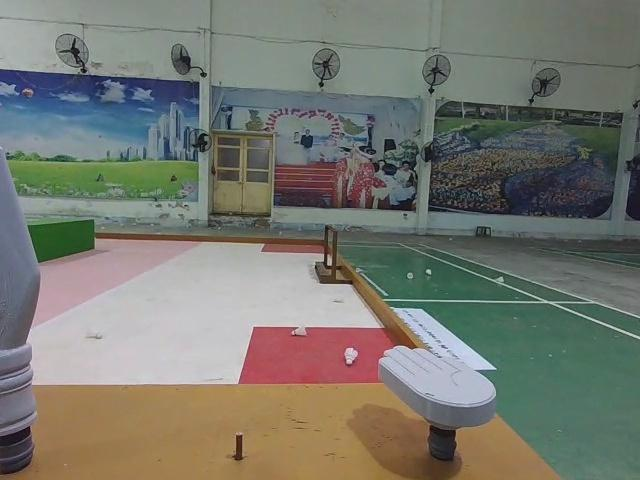Hand: (376, 338, 498, 464)
Sph: (0, 146, 54, 470)
